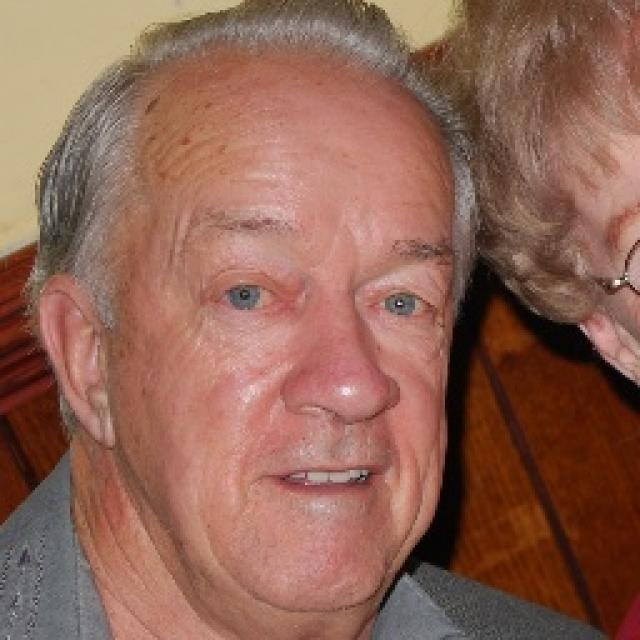earlobe: (38, 274, 122, 451)
